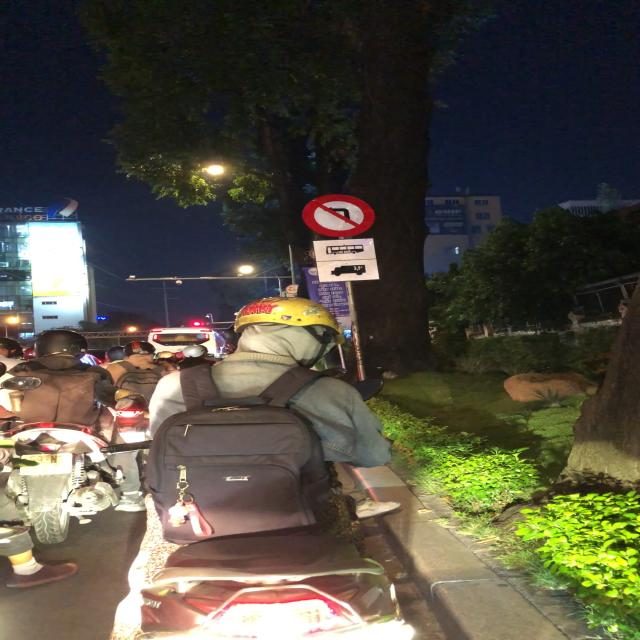Bien bao cam re trai: (301, 192, 377, 239)
